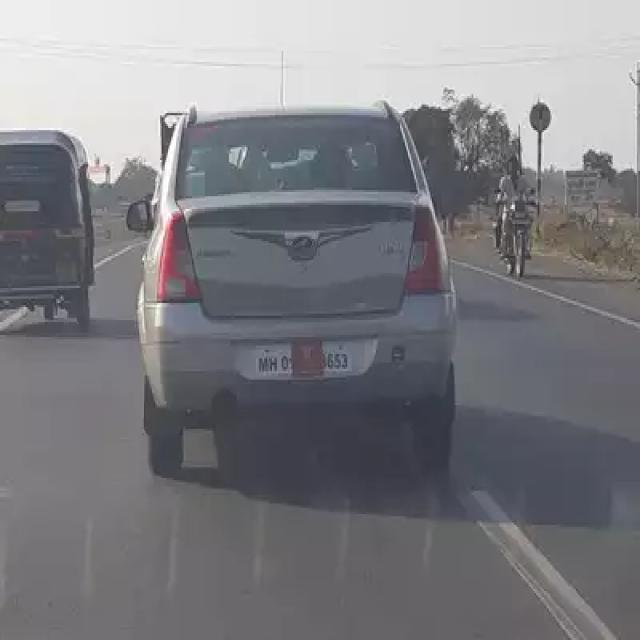plate: (246, 331, 368, 382)
